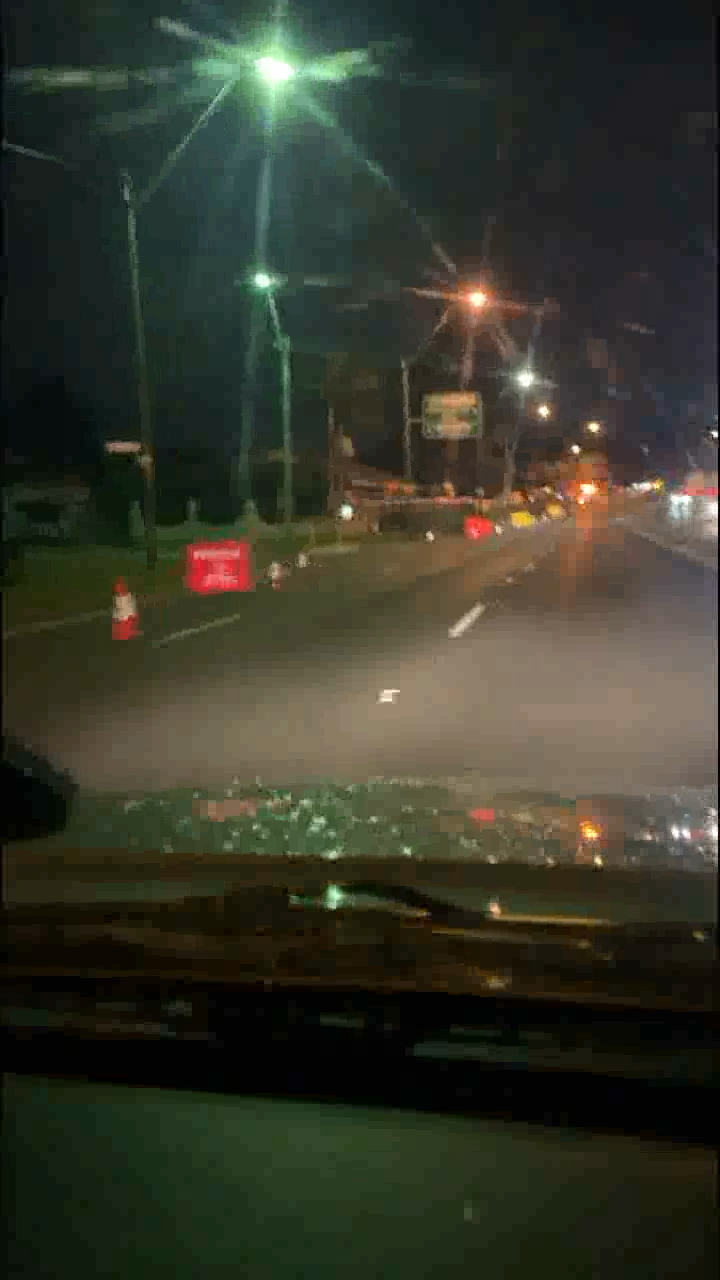road cone: (104, 586, 143, 642)
road works sign board: (179, 548, 250, 594), (462, 517, 493, 544)
